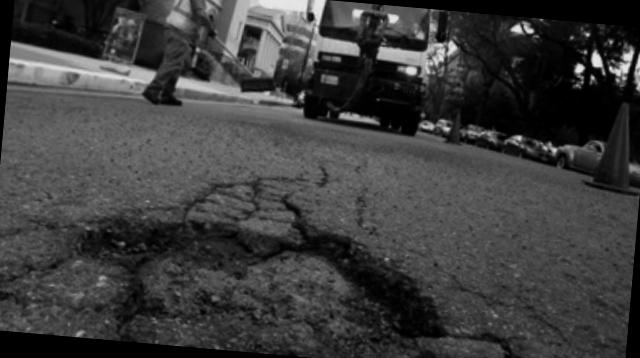Pothole: (43, 197, 532, 358)
